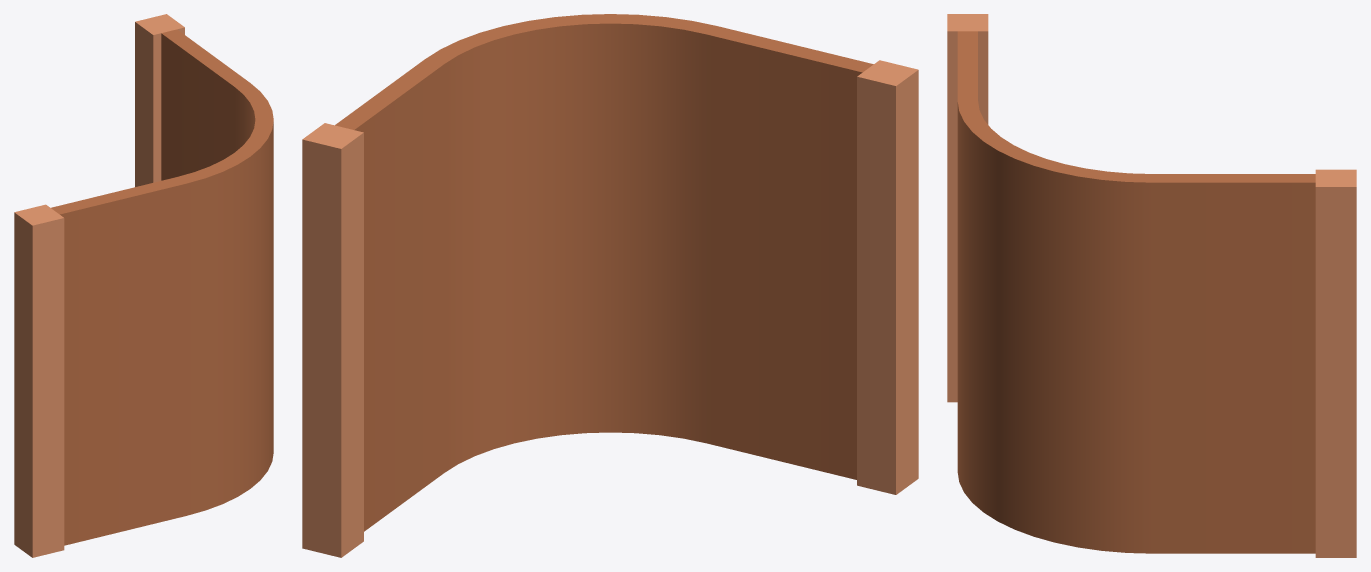
Rendered from wallWoodRounded.fbx.
3 renders of one model, left to right at view 1: azimuth 30°, elevation 25°; view 2: azimuth 150°, elevation 25°; view 3: azimuth 270°, elevation 25°, orthographic. The views are drawn at different scales.
Visible parts, largest first — view 1: wallWoodRounded; view 2: wallWoodRounded; view 3: wallWoodRounded.
Boxes of the visible parts, box(x1,y1,x2,y2) form: wallWoodRounded: box(14, 14, 273, 557); wallWoodRounded: box(302, 14, 918, 557); wallWoodRounded: box(947, 14, 1356, 557).
Bounding box in the file's own units: 10 × 10 × 10.
